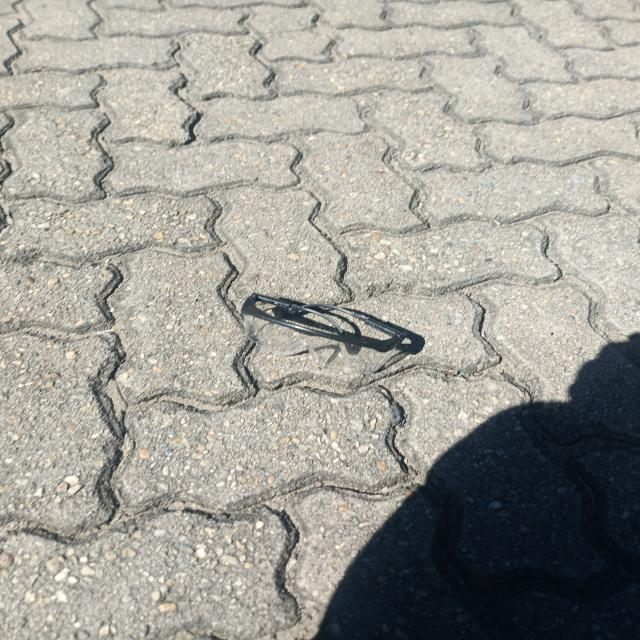oculos-epi: (241, 293, 407, 375)
